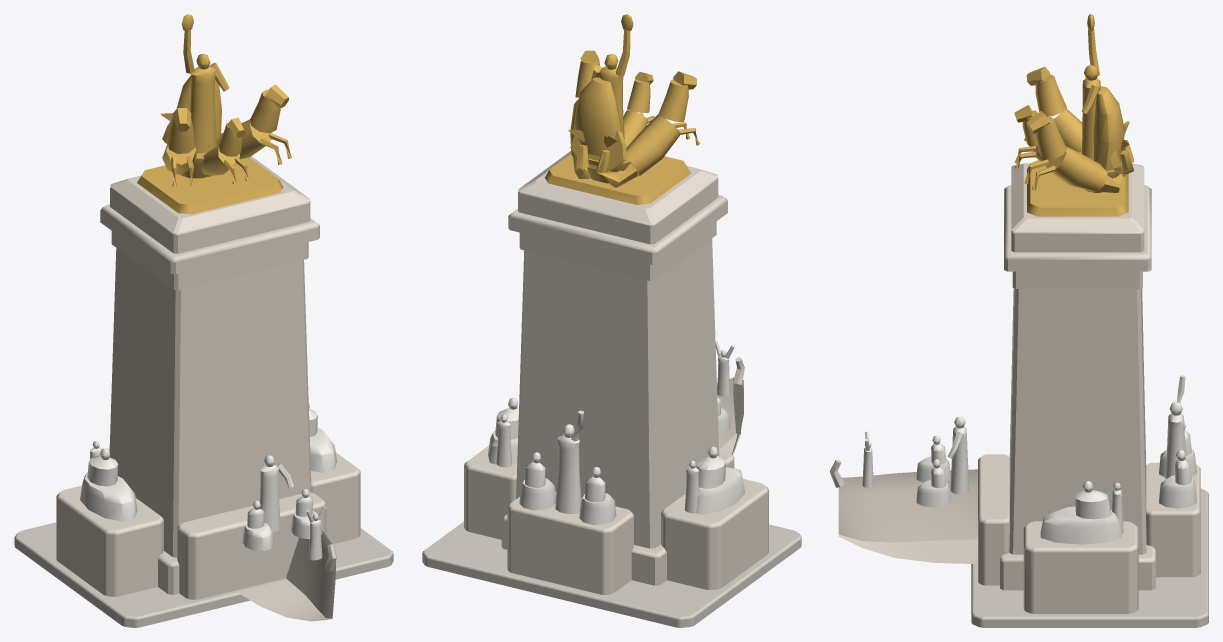
Rendered from nyc-uss-maine-monument.glb.
3 renders of one model, left to right at view 1: azimuth 30°, elevation 25°; view 2: azimuth 150°, elevation 25°; view 3: azimuth 270°, elevation 25°, orthographic.
Parts seen in each view (by area): view 1: USS Maine National Monument; view 2: USS Maine National Monument; view 3: USS Maine National Monument.
Boxes of the visible parts, bbox=[...] form: USS Maine National Monument: bbox=[14, 14, 393, 627]; USS Maine National Monument: bbox=[422, 14, 801, 627]; USS Maine National Monument: bbox=[830, 14, 1208, 627].
Size of the model in its own units: 9.5 by 18.2 by 11.56.
